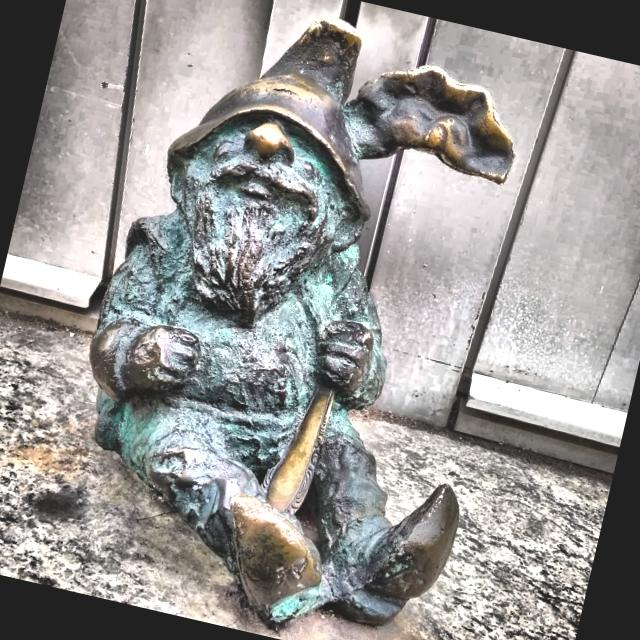Pieroznik: (88, 18, 513, 629)
